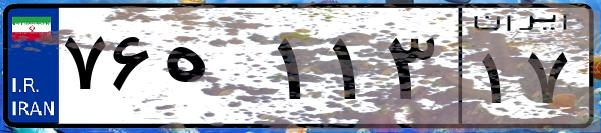1: (270, 28, 330, 110), (330, 28, 385, 110), (475, 38, 525, 113)
3: (385, 28, 445, 110)
6: (110, 28, 158, 98)
7: (57, 26, 110, 100), (525, 38, 570, 115)
ه: (158, 20, 270, 120)
